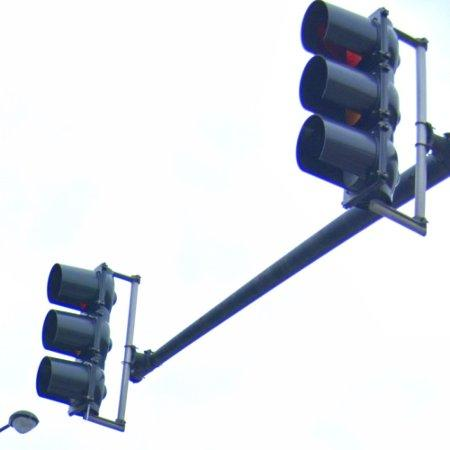traffic lights: (297, 1, 401, 216)
